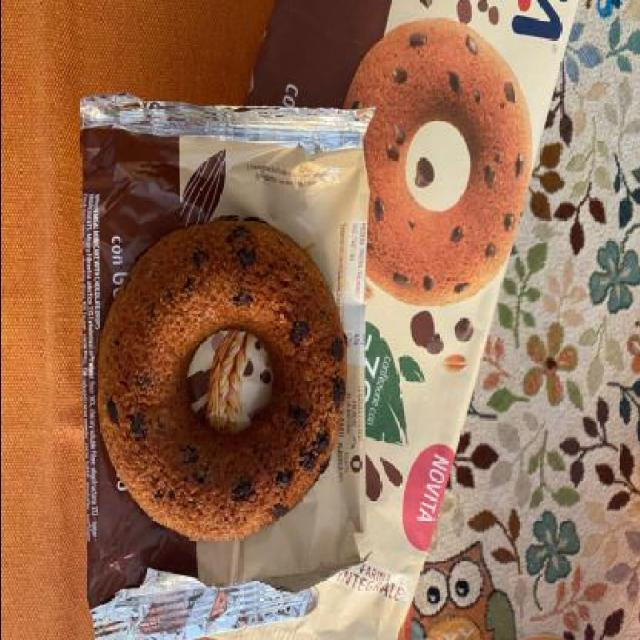Merendine packaged: (96, 223, 347, 546)
